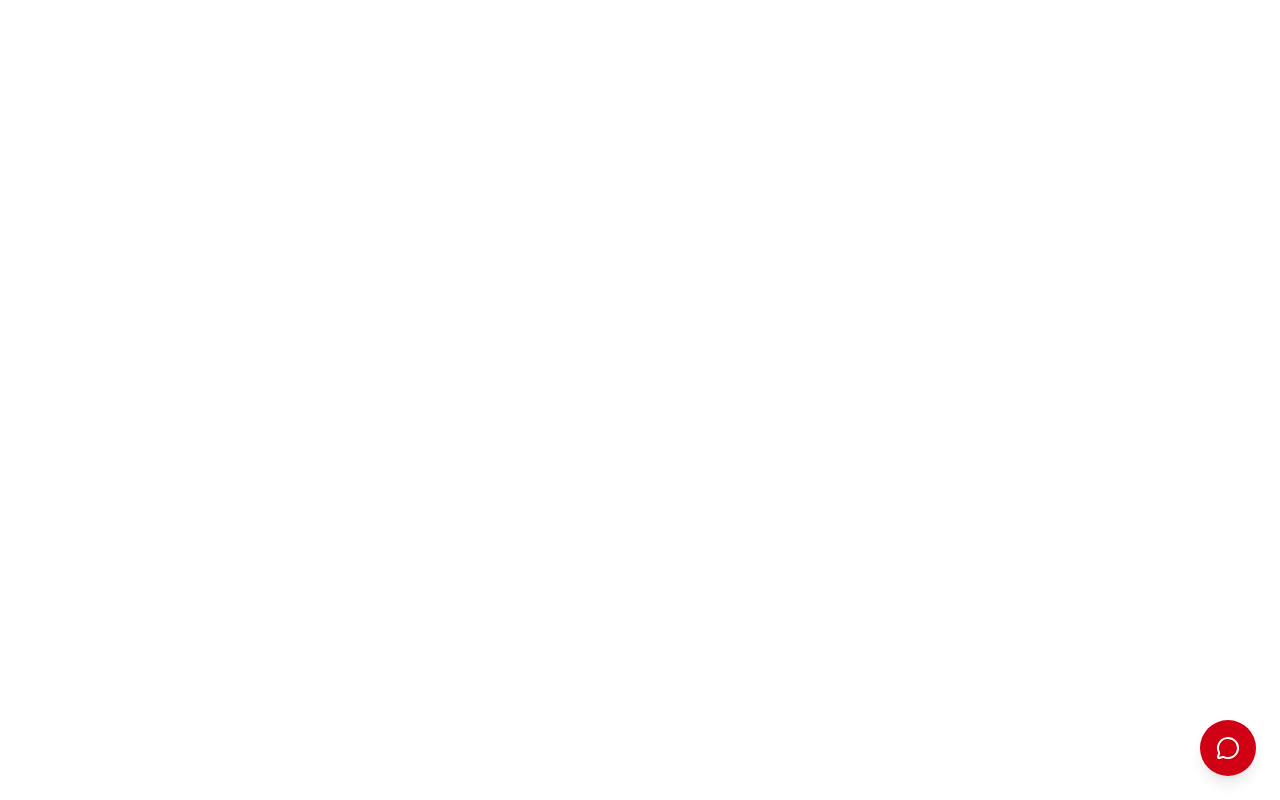
Test case: loads on demand and answers suggested and exact questions without a server call
Expected: the field labelled "Your question" is not shown
Click the button named "Ask about my work" at (1228, 748), box top-left (1200, 720), bottom-right (1256, 776)
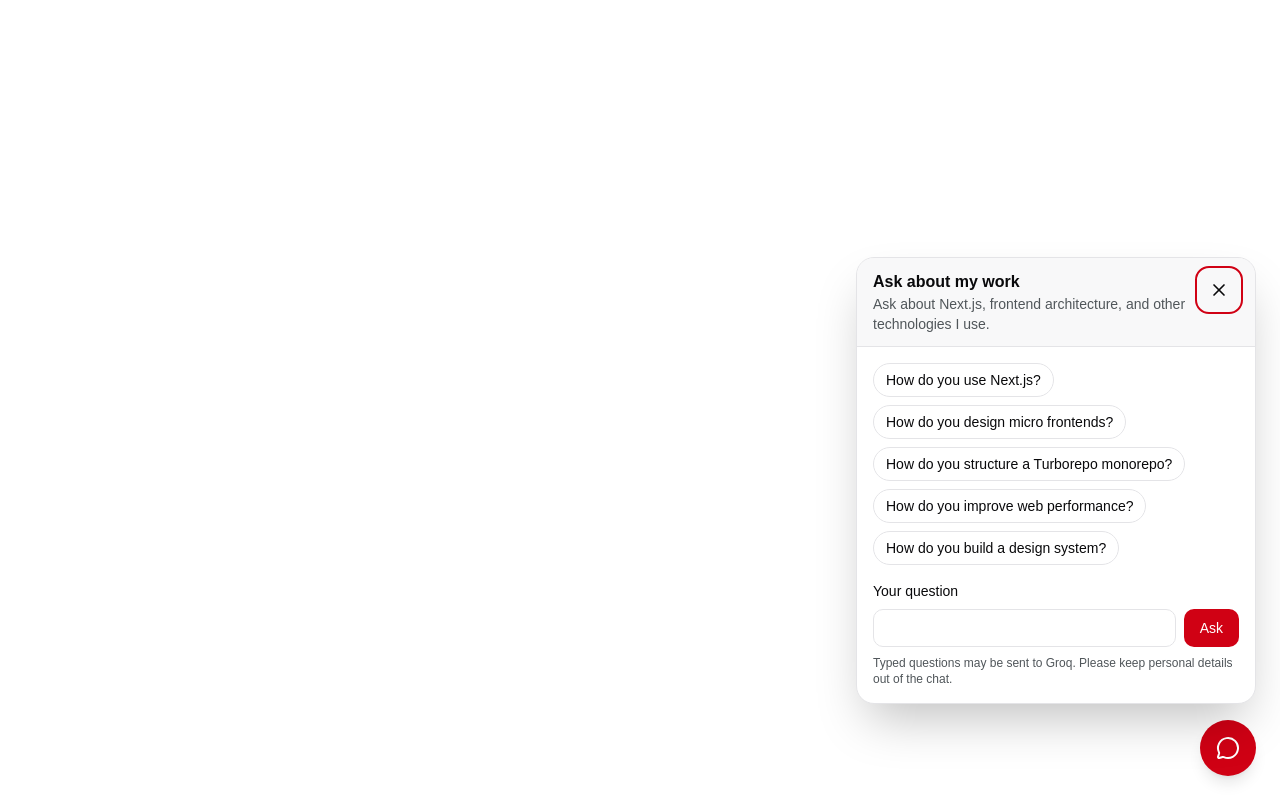
Expected: the dialog "Ask about my work" is shown, top-left (856, 257), bottom-right (1256, 704)
Click the button "How do you use Next.js?" at (963, 380), box top-left (873, 363), bottom-right (1054, 397)
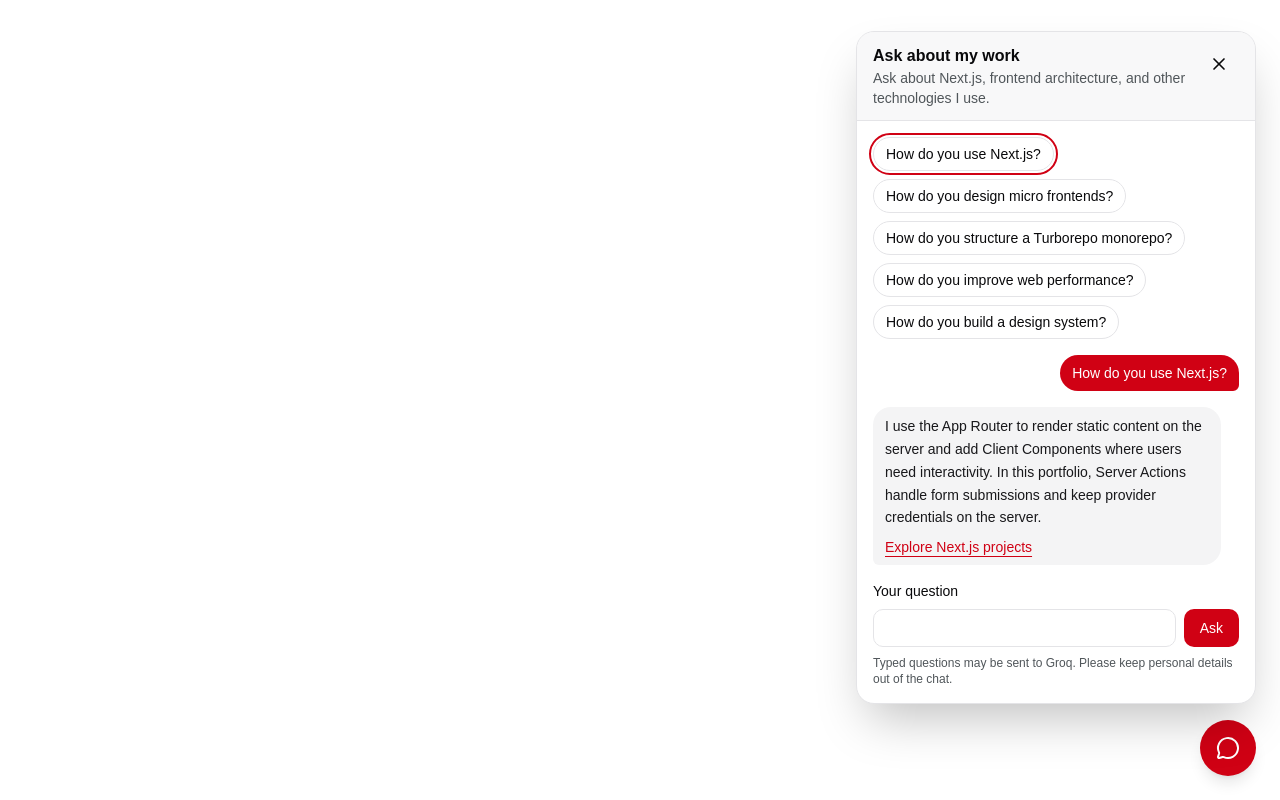
Expected: the message shows "Next.js", top-left (885, 537), bottom-right (1032, 557)
Type "How do you structure a Turborepo monorepo?" into the field labelled "Your question" at (1024, 628), box top-left (873, 609), bottom-right (1176, 647)
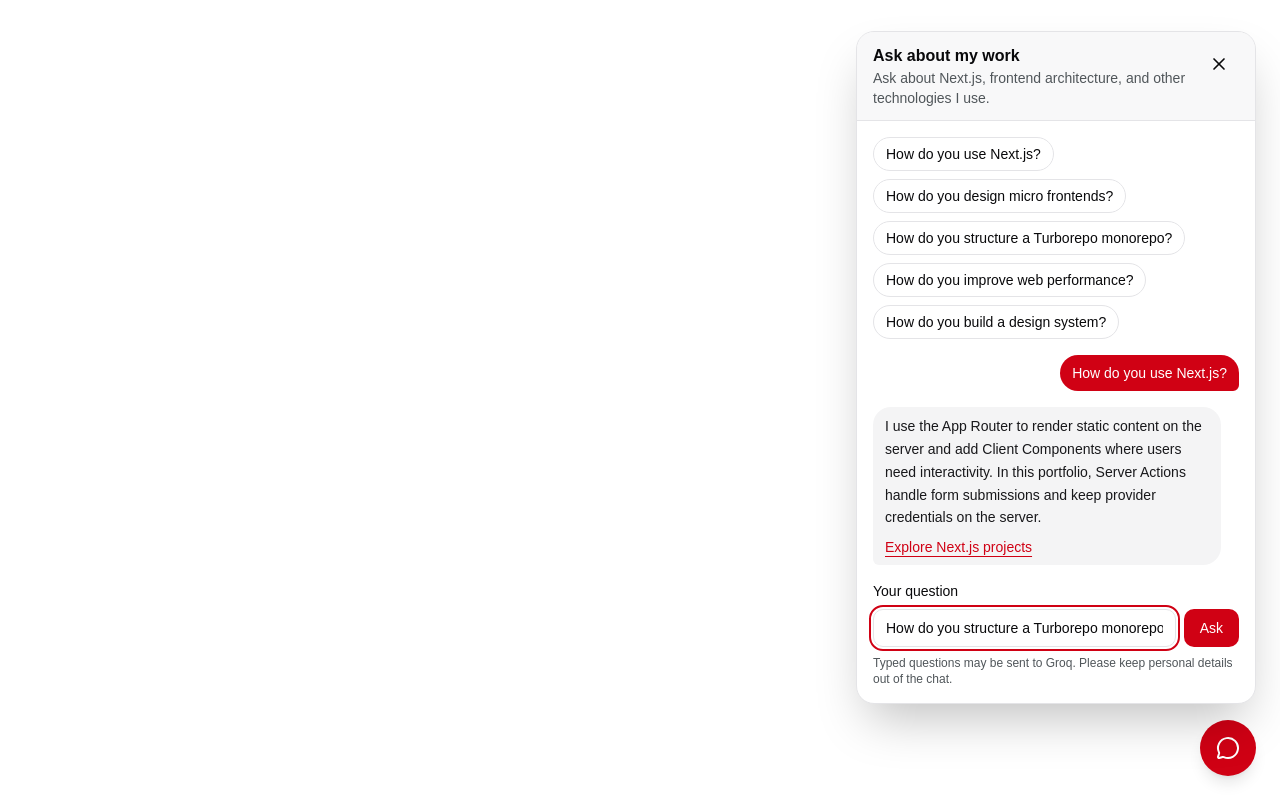
Click the button "Ask" at (1211, 628), box top-left (1184, 609), bottom-right (1239, 647)
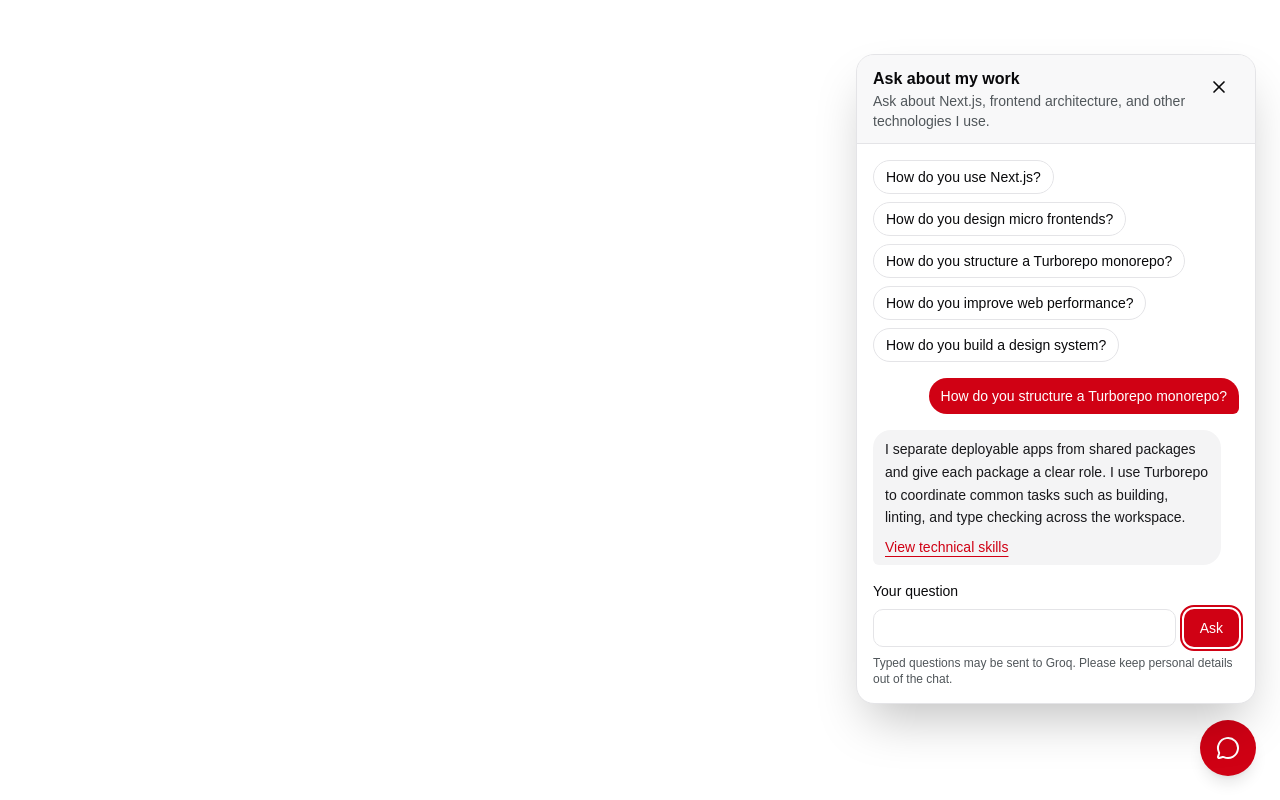
Expected: the message shows "Turborepo", top-left (885, 441), bottom-right (1208, 525)
Click the button named "Close chat" at (1219, 87), box top-left (1199, 67), bottom-right (1239, 107)
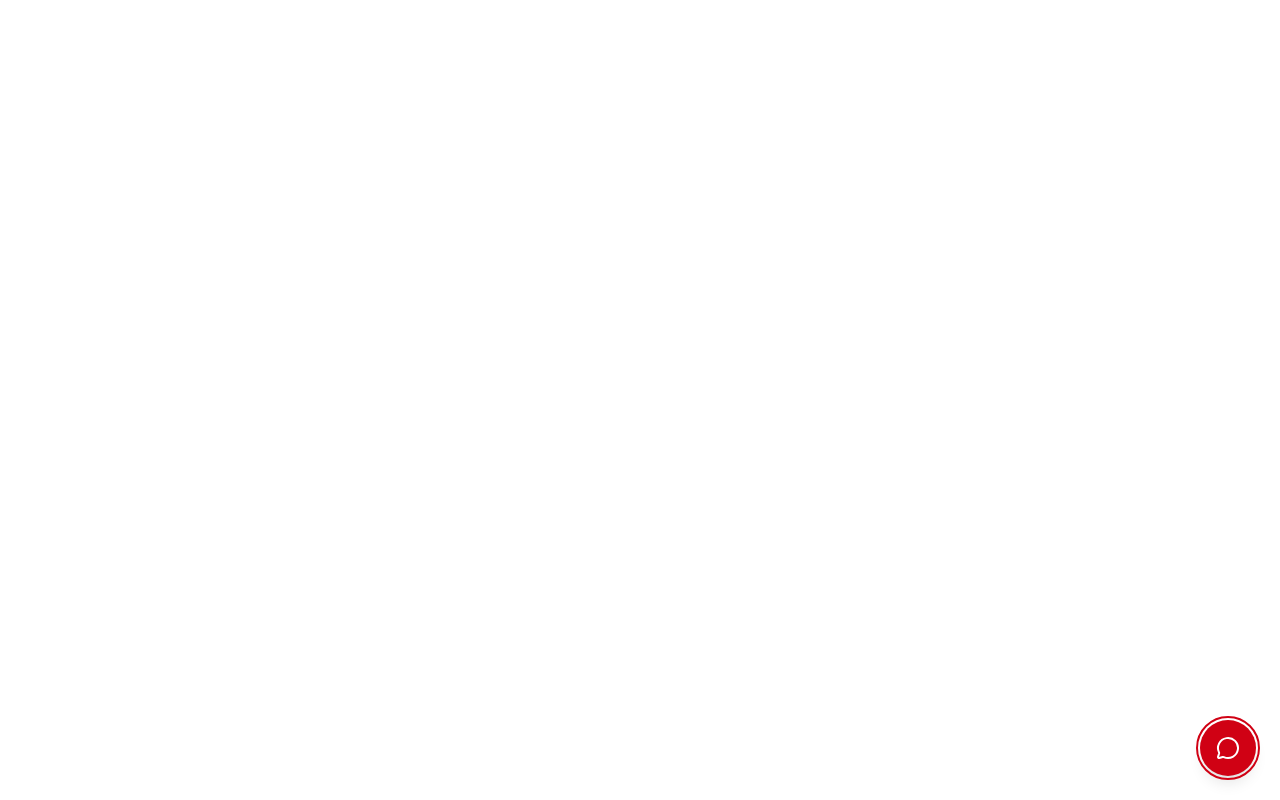
Expected: the label labelled "Your question" is gone
